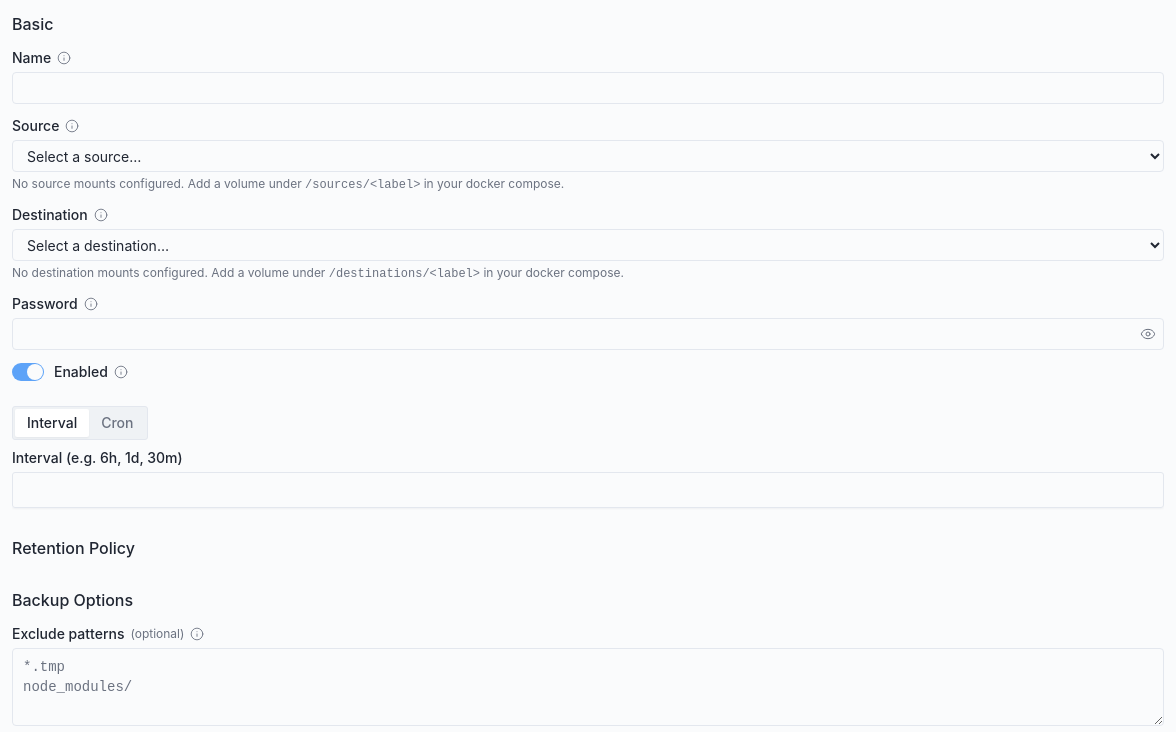
Test case: JobForm › password visibility toggle › reveals the password when the toggle is clicked
This screenshot has width=1176, height=732.
Type "hunter2" into the password field labelled "Password".
click(588, 334); type("hunter2")  # box x1=12 y1=318 x2=1164 y2=350
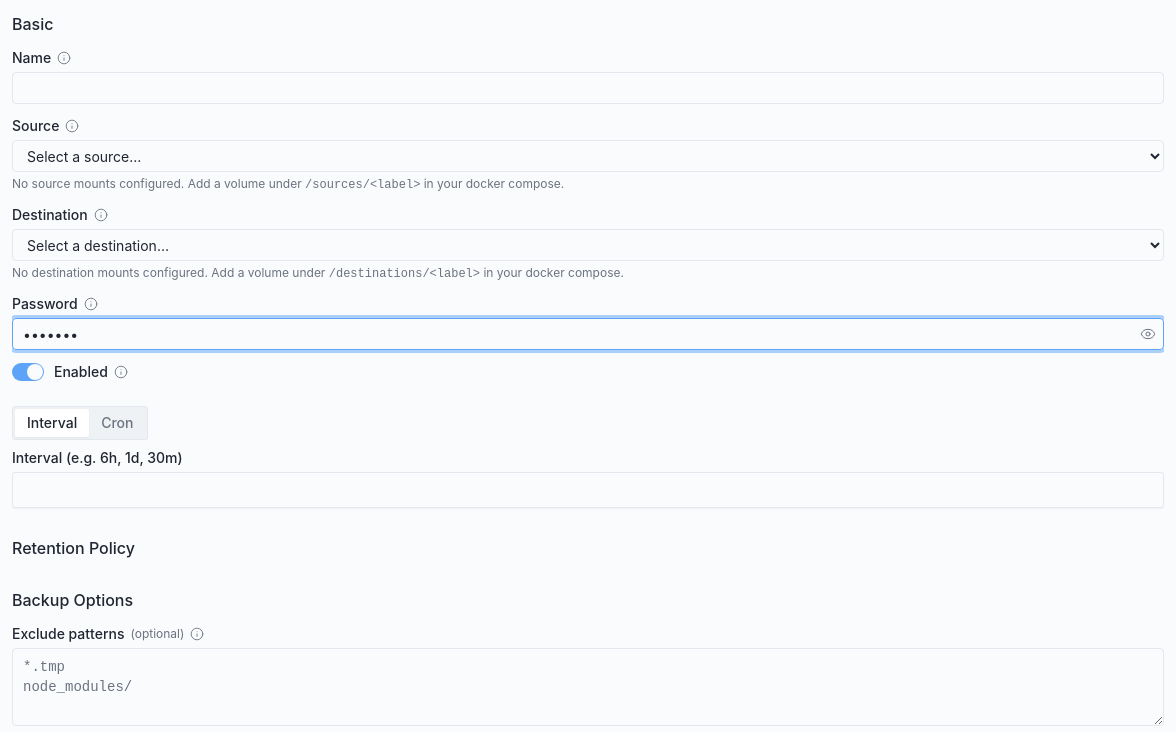
Click the button named "show password".
click(1148, 334)  # box x1=1132 y1=318 x2=1164 y2=350
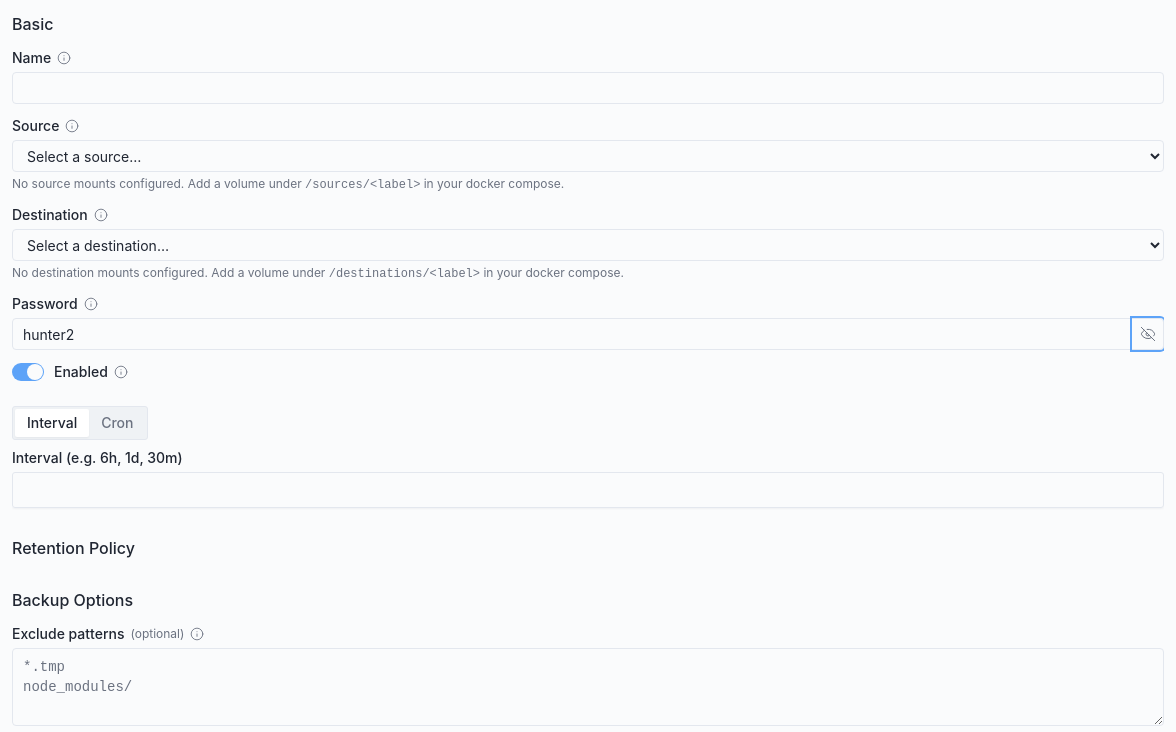
Check: the field labelled "Password" shows its text, box x1=12 y1=318 x2=1164 y2=350
